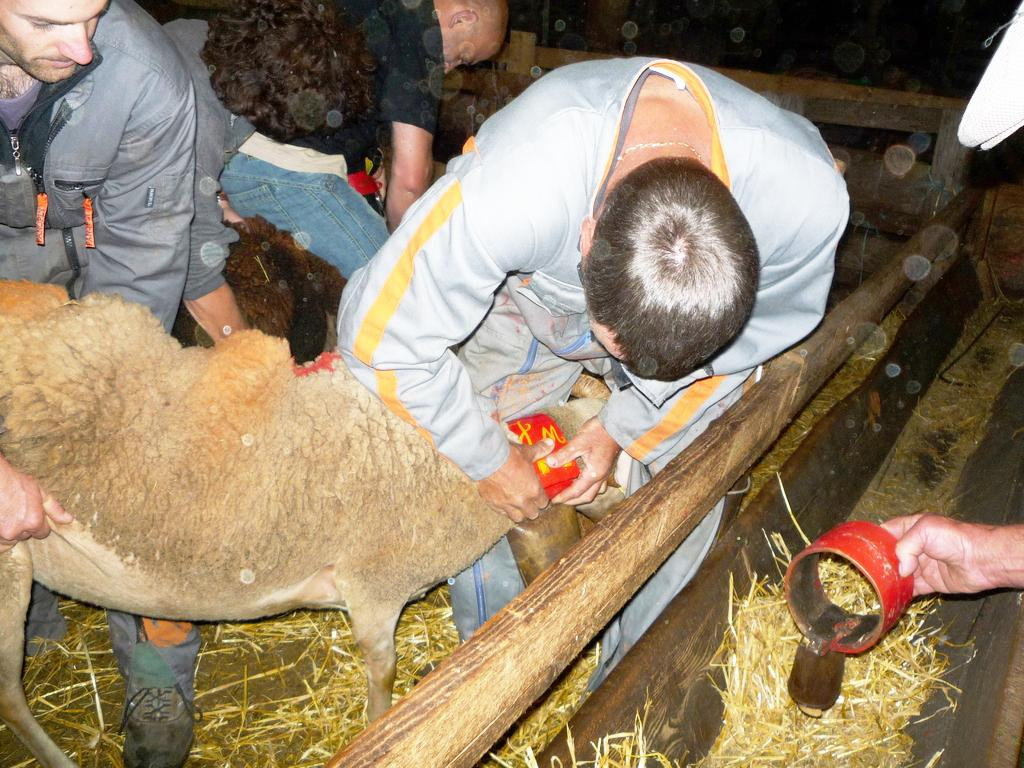Sheep: (0, 277, 612, 768)
